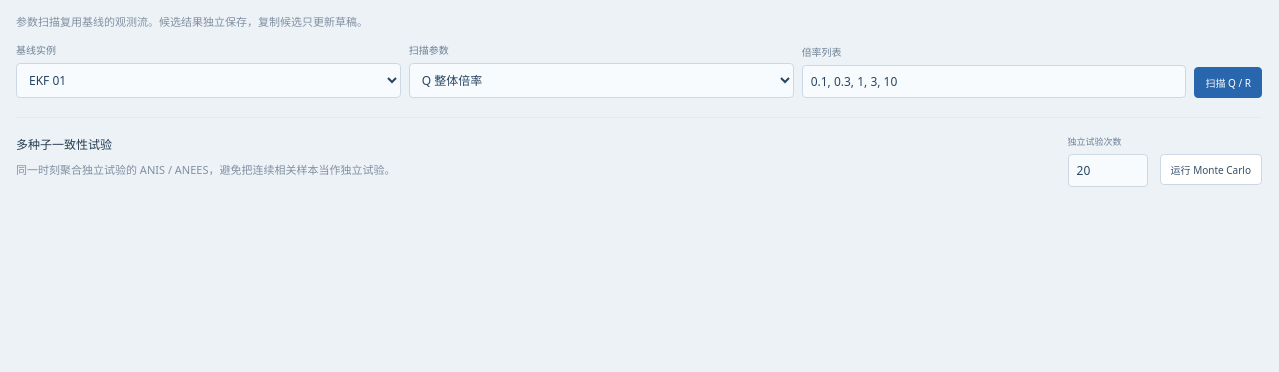
noise scan comparison evidence › leaves common-window scores empty when there are no shared valid samples
Click the button "扫描 Q / R".
click(1228, 82)  # box [1194,67,1262,98]
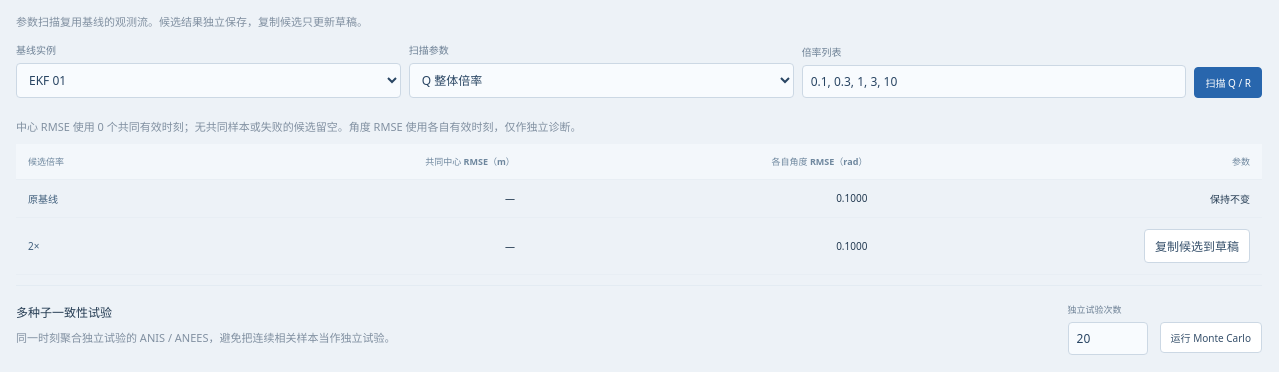
Expected: the text "—" next to "原基线" is shown, [505,191,515,205]
Result: the text "中心 RMSE 使用 0 个共同有效时刻；无共同样本或失败的候选留空。角度 RMSE 使用各自有效时刻，仅作独立诊断。" is shown at [16,119,581,134]
